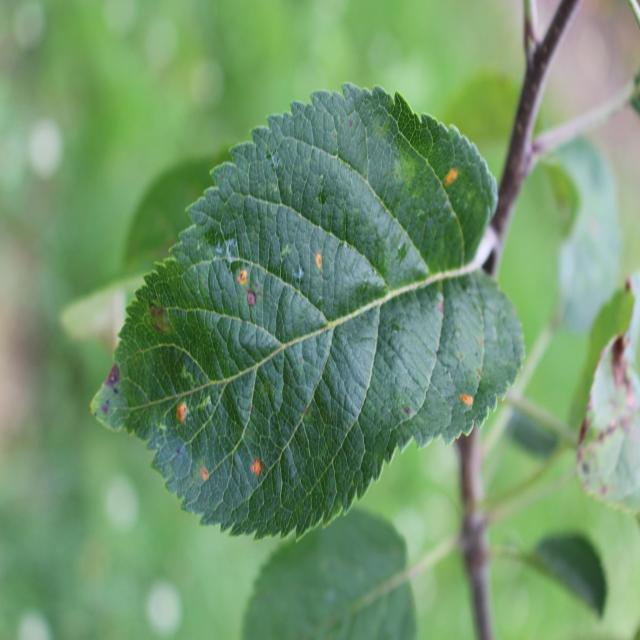Rust: (441, 154, 472, 222), (453, 379, 487, 425), (303, 243, 333, 294), (167, 390, 200, 431), (236, 451, 274, 486), (191, 458, 215, 498), (224, 255, 248, 294)
